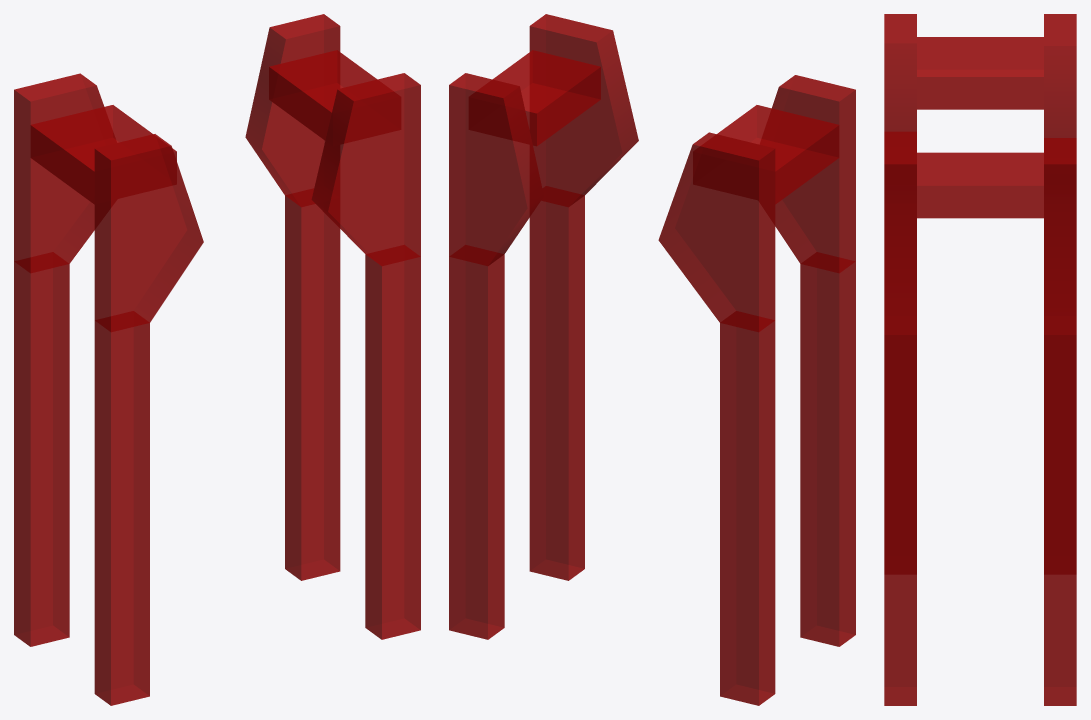
The model's file is SM_Bld_Village_ArchwayBridge_01_Destroyed_Collision.fbx.
3 renders of one model, left to right at view 1: azimuth 30°, elevation 25°; view 2: azimuth 150°, elevation 25°; view 3: azimuth 270°, elevation 25°, orthographic.
Parts seen in each view (by area): view 1: SM_Bld_Village_ArchwayBridge_01_Destroyed_Collision; view 2: SM_Bld_Village_ArchwayBridge_01_Destroyed_Collision; view 3: SM_Bld_Village_ArchwayBridge_01_Destroyed_Collision.
Boxes of the visible parts, bbox=[...] form: SM_Bld_Village_ArchwayBridge_01_Destroyed_Collision: bbox=[14, 14, 420, 705]; SM_Bld_Village_ArchwayBridge_01_Destroyed_Collision: bbox=[449, 14, 855, 705]; SM_Bld_Village_ArchwayBridge_01_Destroyed_Collision: bbox=[884, 14, 1076, 705].
Bounding box in the file's own units: 397 × 667 × 215.
